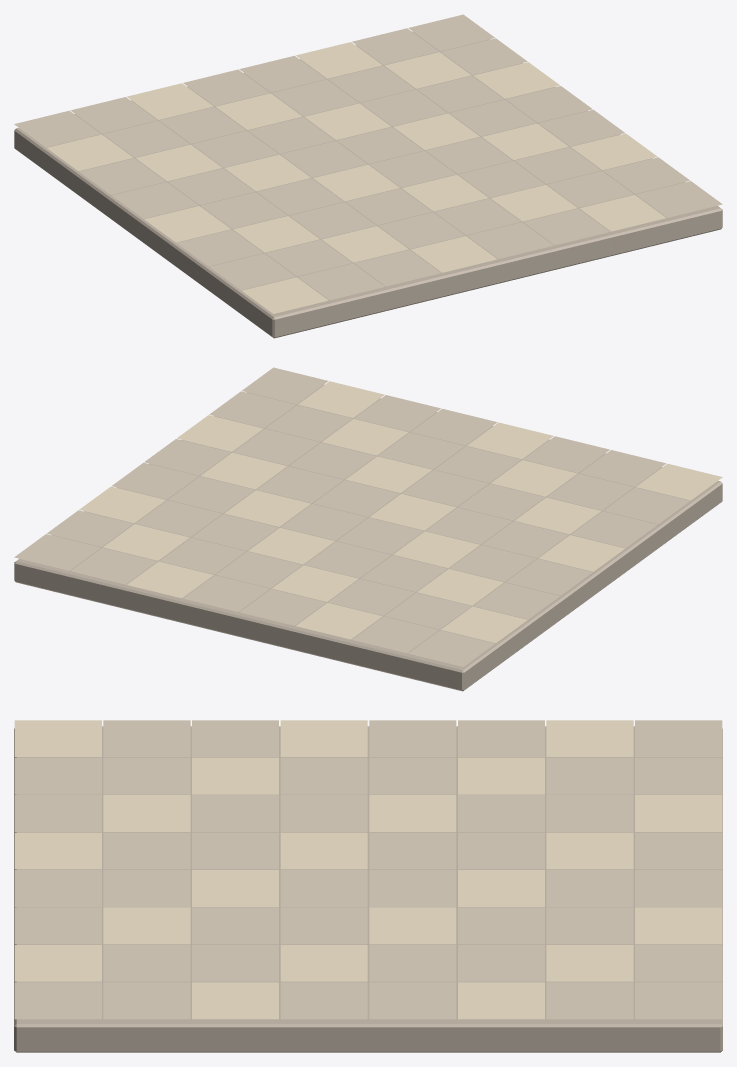
File: floor-module.glb
3 views of the same model, one above another, from view 1: azimuth 30°, elevation 25°; view 2: azimuth 150°, elevation 25°; view 3: azimuth 270°, elevation 25° (orthographic). The views are drawn at different scales.
Visible parts, largest first — view 1: floor_module; view 2: floor_module; view 3: floor_module.
Boxes of the visible parts, bbox=[...] form: floor_module: bbox=[14, 14, 722, 338]; floor_module: bbox=[14, 367, 722, 691]; floor_module: bbox=[14, 720, 722, 1052].
Bounding box in the file's own units: 4 × 0.214 × 4.
